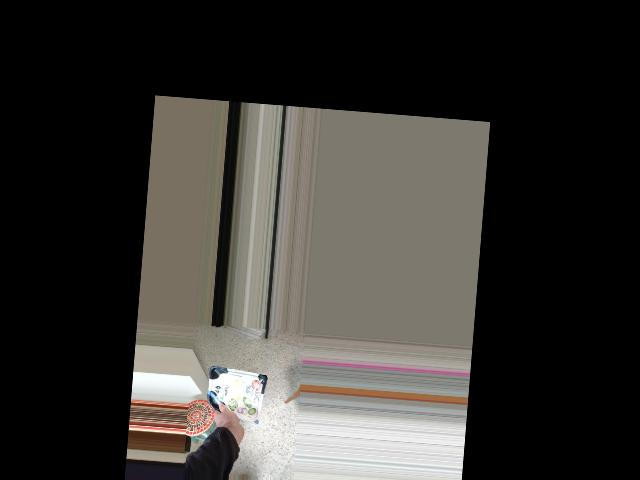cheese: (204, 378, 266, 441)
